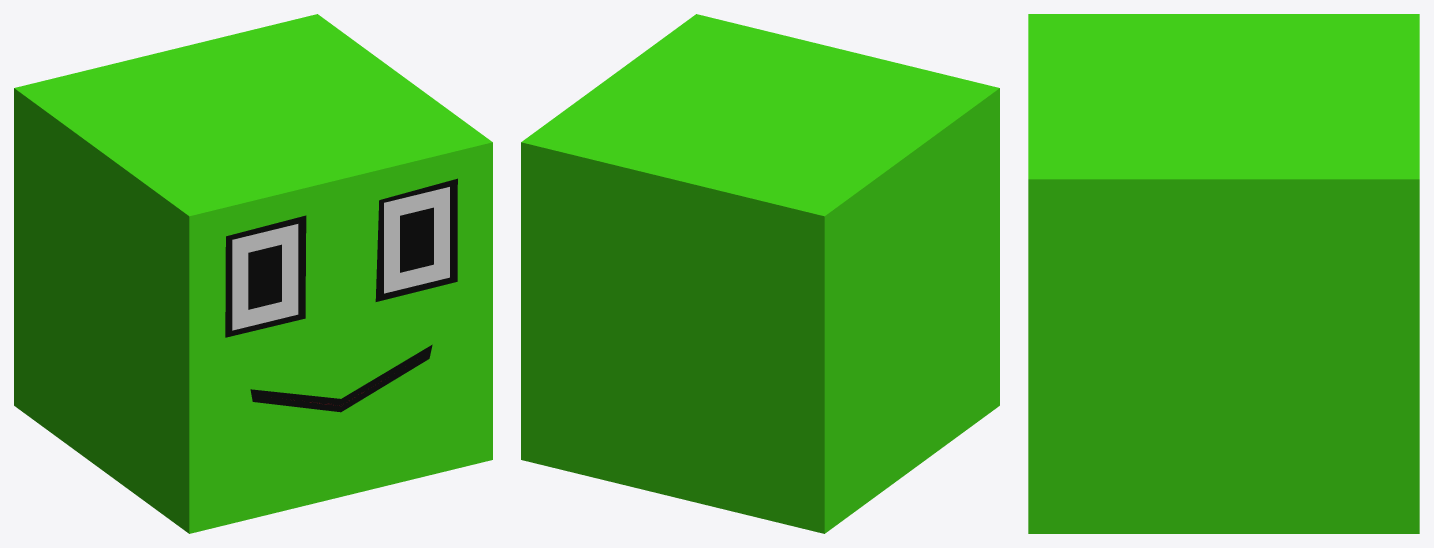
Rendered from 20201212_shapekey_sample.gltf.
The picture shows the model from 3 angles, left to right: view 1: azimuth 30°, elevation 25°; view 2: azimuth 150°, elevation 25°; view 3: azimuth 270°, elevation 25°; orthographic projection. The views are drawn at different scales.
Visible parts, largest first — view 1: Cube; view 2: Cube; view 3: Cube.
Part boxes in pixels (<box>): Cube: <box>14,14,492,533</box>; Cube: <box>521,14,999,533</box>; Cube: <box>1028,14,1419,533</box>.
Bounding box in the file's own units: 2 × 2 × 2.
